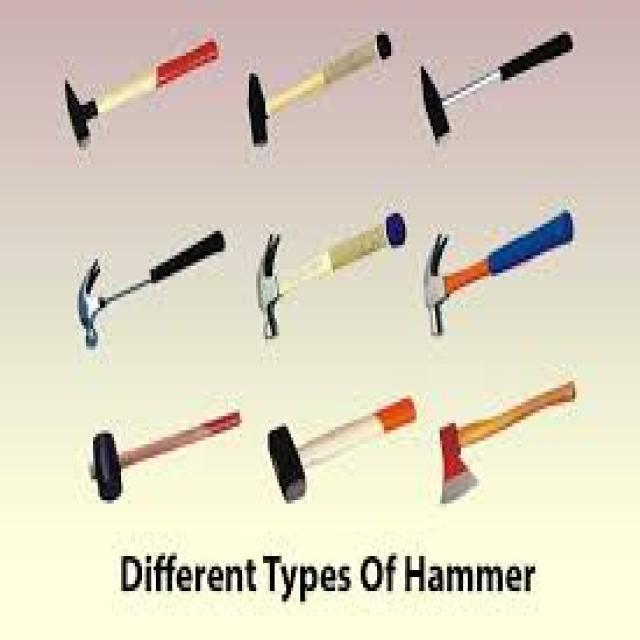Palu: (70, 218, 226, 360), (259, 391, 425, 522), (255, 206, 404, 350), (414, 30, 578, 148), (56, 39, 224, 152), (422, 210, 574, 334), (243, 38, 395, 159), (82, 399, 245, 509)
